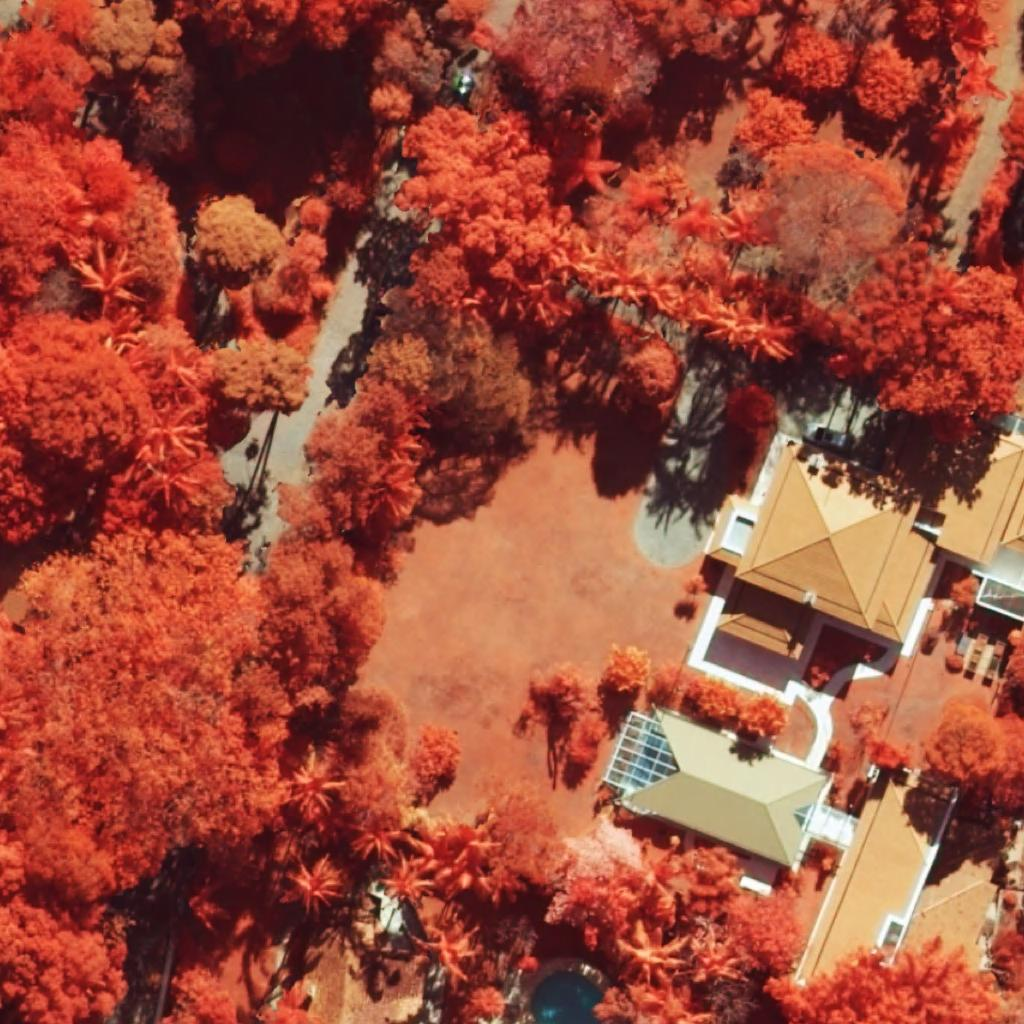pool: (531, 971, 605, 1024)
